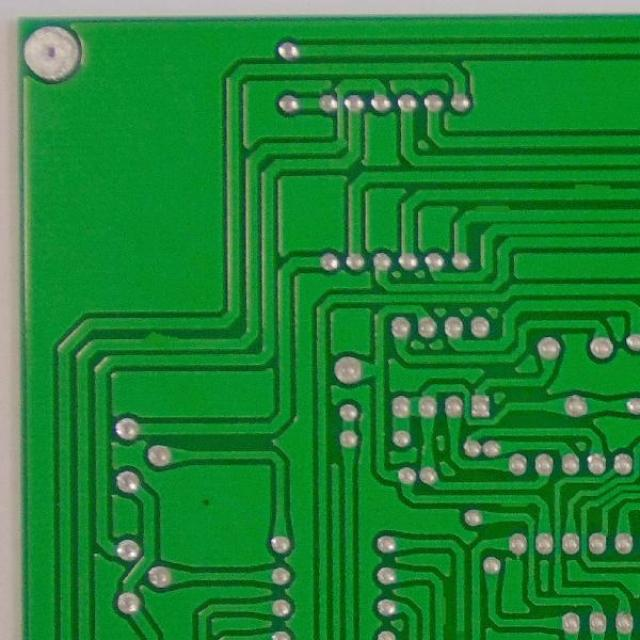spur: (469, 200, 513, 220), (571, 180, 612, 198), (139, 329, 180, 346), (435, 593, 452, 633)
